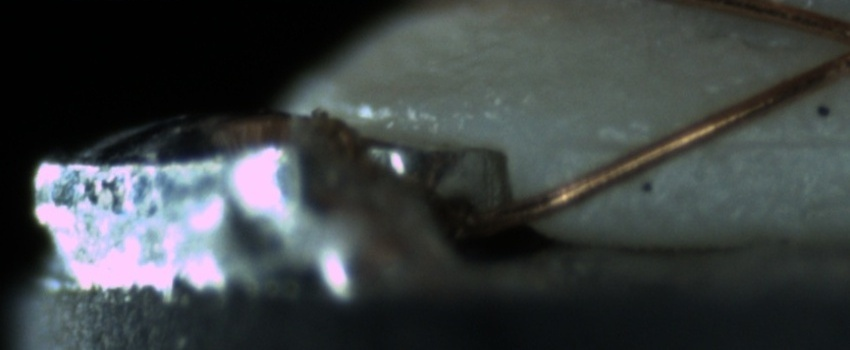DL: (561, 111, 850, 174)
